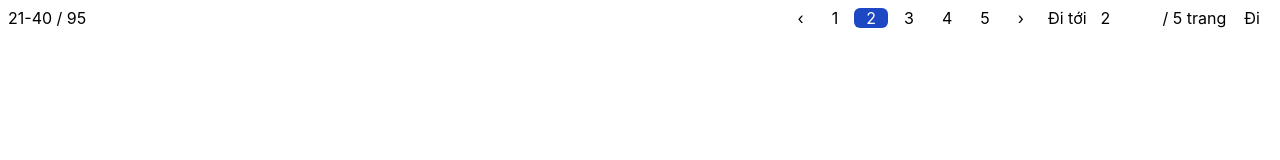
Scenario: jumper ignores non-numeric and empty drafts
Replace the text in the number field named "Đi tới trang" with "12abc" at x=1125, y=18, box 1093,8 -> 1157,28
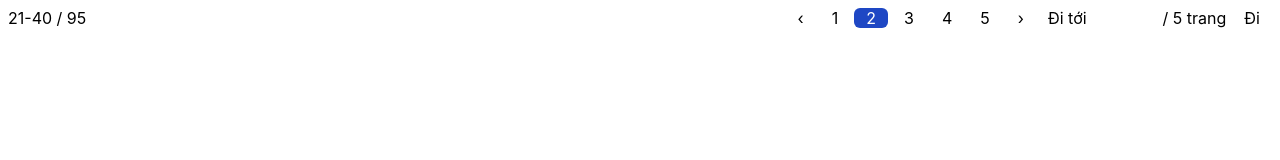
Submit the form named "Đi tới trang", box 1048,8 -> 1272,28
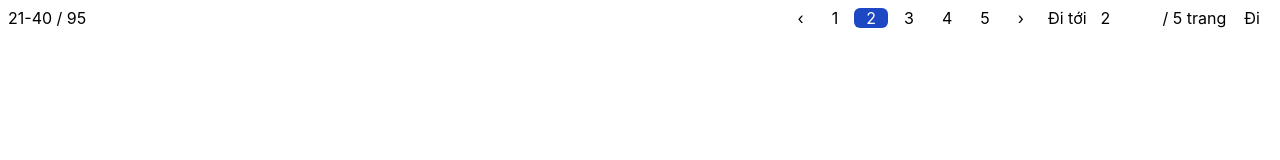
Now the number field named "Đi tới trang" holds "2"
Replace the text in the number field named "Đi tới trang" with "1e5" at x=1125, y=18, box 1093,8 -> 1157,28
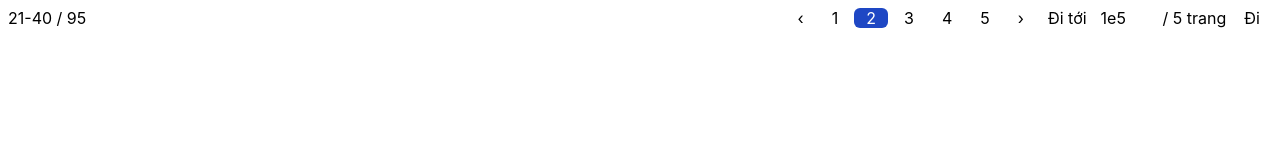
Submit the form named "Đi tới trang", box 1048,8 -> 1272,28
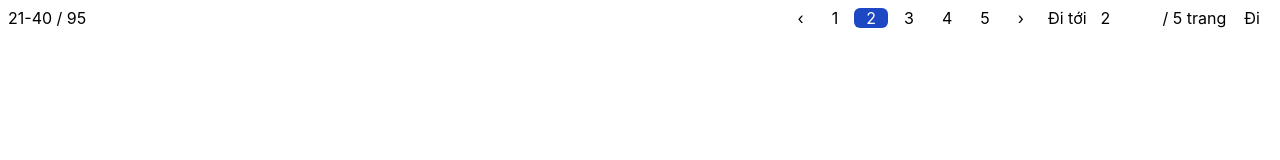
Now the number field named "Đi tới trang" holds "2"
Clear the number field named "Đi tới trang" at x=1125, y=18, box 1093,8 -> 1157,28
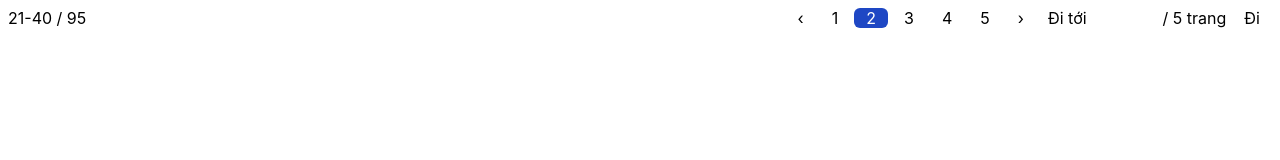
Submit the form named "Đi tới trang", box 1048,8 -> 1272,28
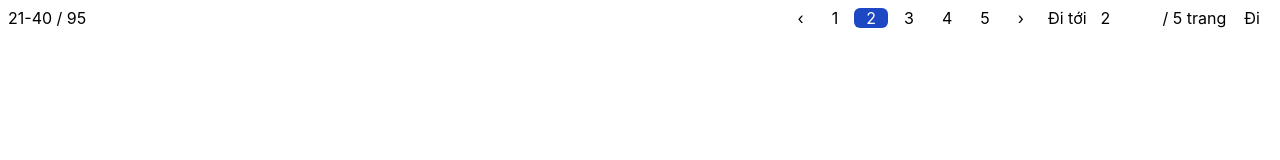
Now the number field named "Đi tới trang" holds "2", box 1093,8 -> 1157,28
